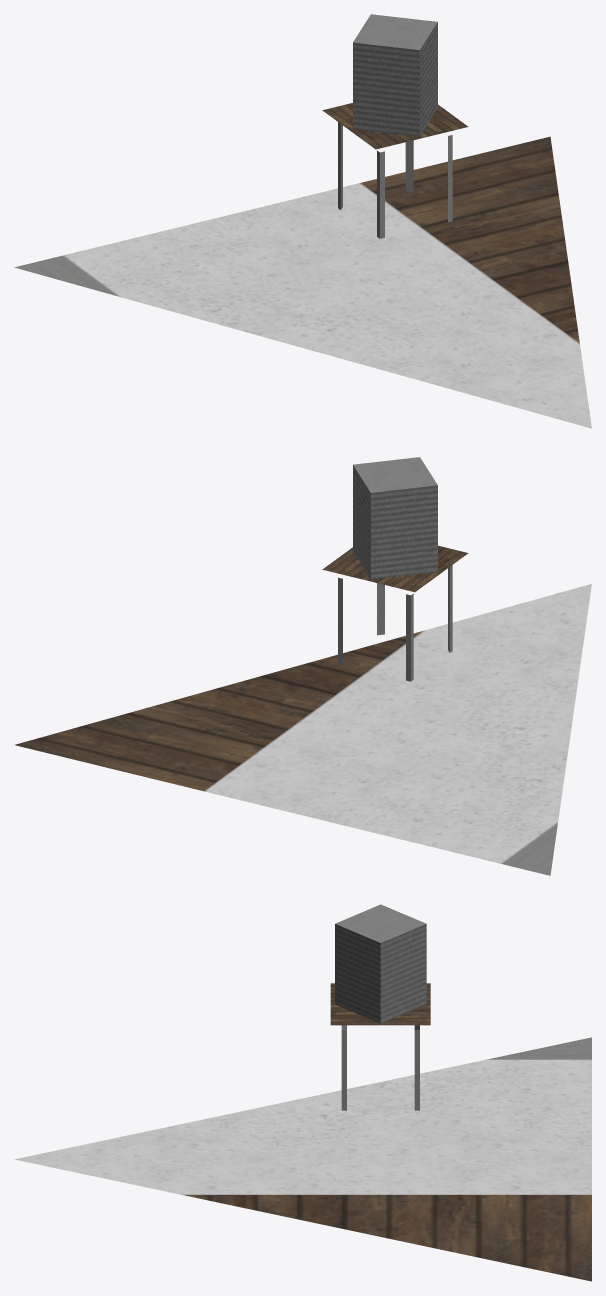
File: water-tank-stand-2x2-cbj_LOD03.gltf
3 renders of one model, top to bottom at view 1: azimuth 30°, elevation 25°; view 2: azimuth 150°, elevation 25°; view 3: azimuth 270°, elevation 25°, orthographic. The views are drawn at different scales.
Parts seen in each view (by area): view 1: tank3; view 2: tank3; view 3: tank3.
Part boxes in pixels (bbox=[...]): tank3: bbox=[14, 14, 591, 428]; tank3: bbox=[15, 457, 591, 875]; tank3: bbox=[14, 904, 591, 1281].
Bounding box in the file's own units: 10.4 × 4.68 × 10.4.
